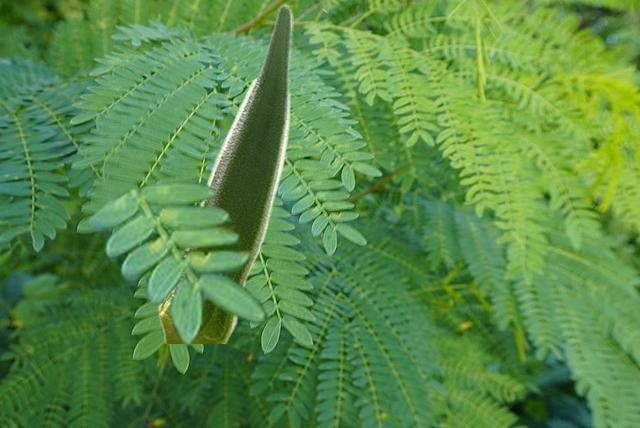okra: (157, 2, 292, 342)
